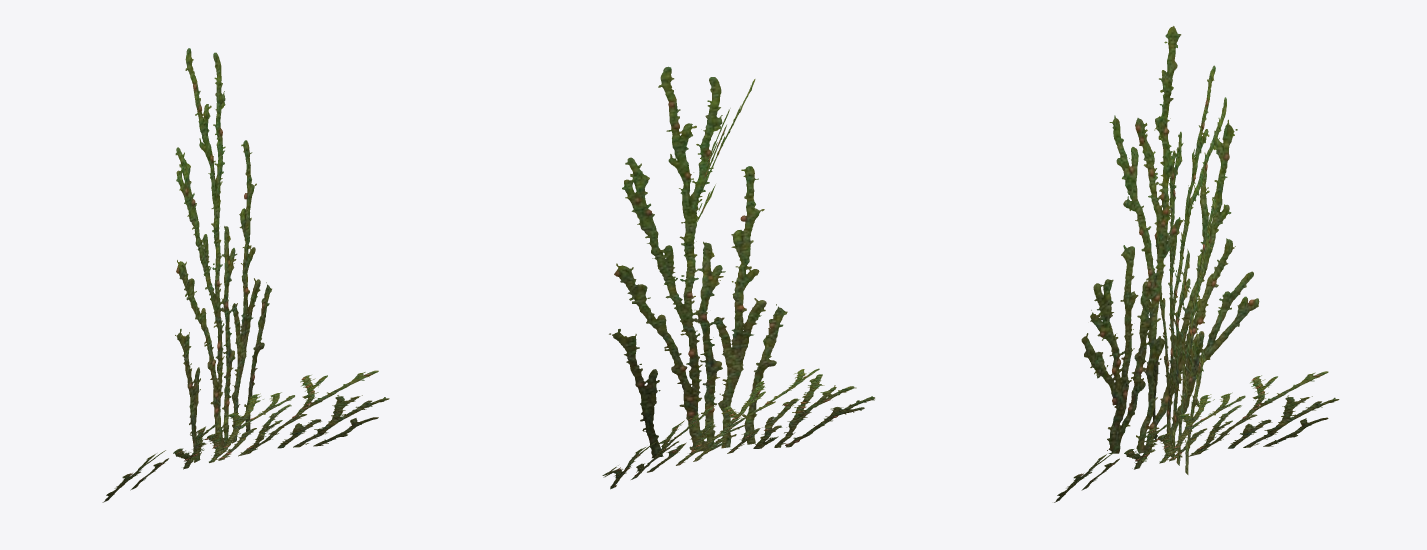
File: Plant - Alien Ground Cover1-BwH-V-0T.glb
3 renders of one model, left to right at view 1: azimuth 30°, elevation 25°; view 2: azimuth 150°, elevation 25°; view 3: azimuth 270°, elevation 25°, orthographic.
Parts seen in each view (by area): view 1: Ground_Cover1(Clone); view 2: Ground_Cover1(Clone); view 3: Ground_Cover1(Clone).
Part boxes in pixels (box(x1,y1,x2,y2)): Ground_Cover1(Clone): box(102, 48, 389, 502); Ground_Cover1(Clone): box(602, 66, 874, 489); Ground_Cover1(Clone): box(1054, 26, 1339, 502).
Bounding box in the file's own units: 0.976 × 0.9062 × 0.8539.
1 material, 1 textured.
